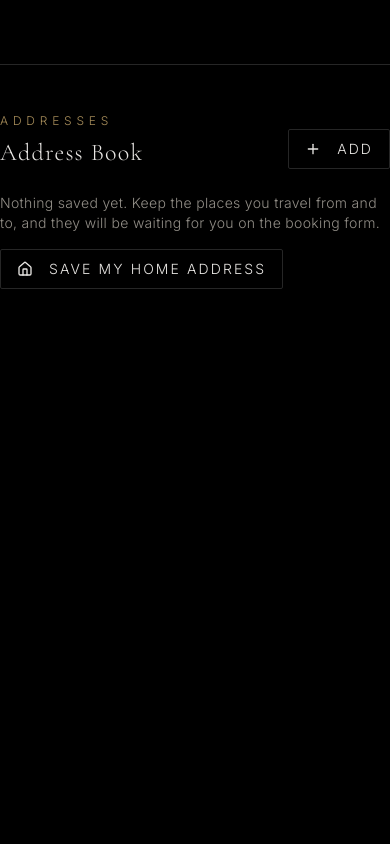
Test: the member's address book › offers the profile address when the book is empty
Step 1. Click the button "Save my home address" → (142, 269), box 0,249 -> 283,289
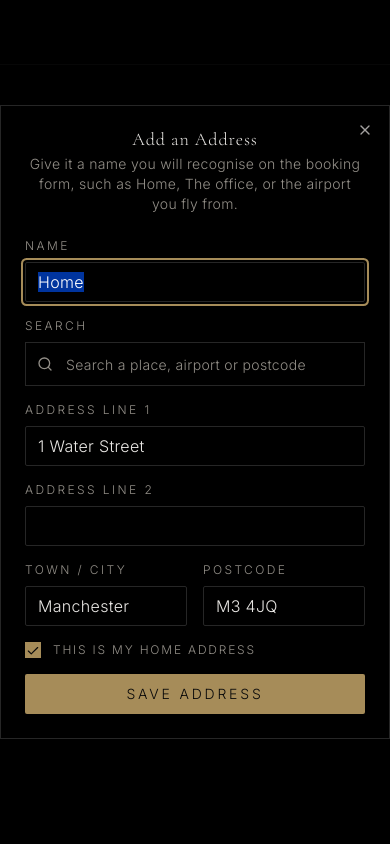
Now the field showing "1 Water Street" below "Address Line 1" is shown, box 25,426 -> 365,466
Now the field showing "M3 4JQ" below "Postcode" is shown, box 203,586 -> 365,626
